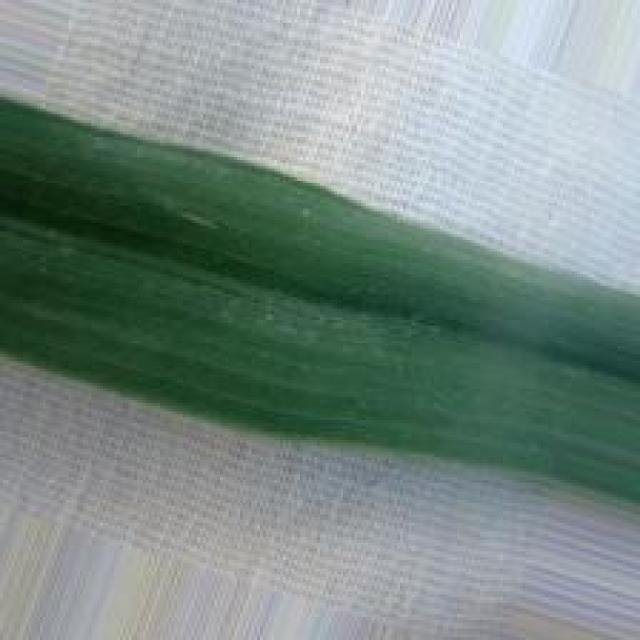Healthy: (0, 95, 640, 513)
